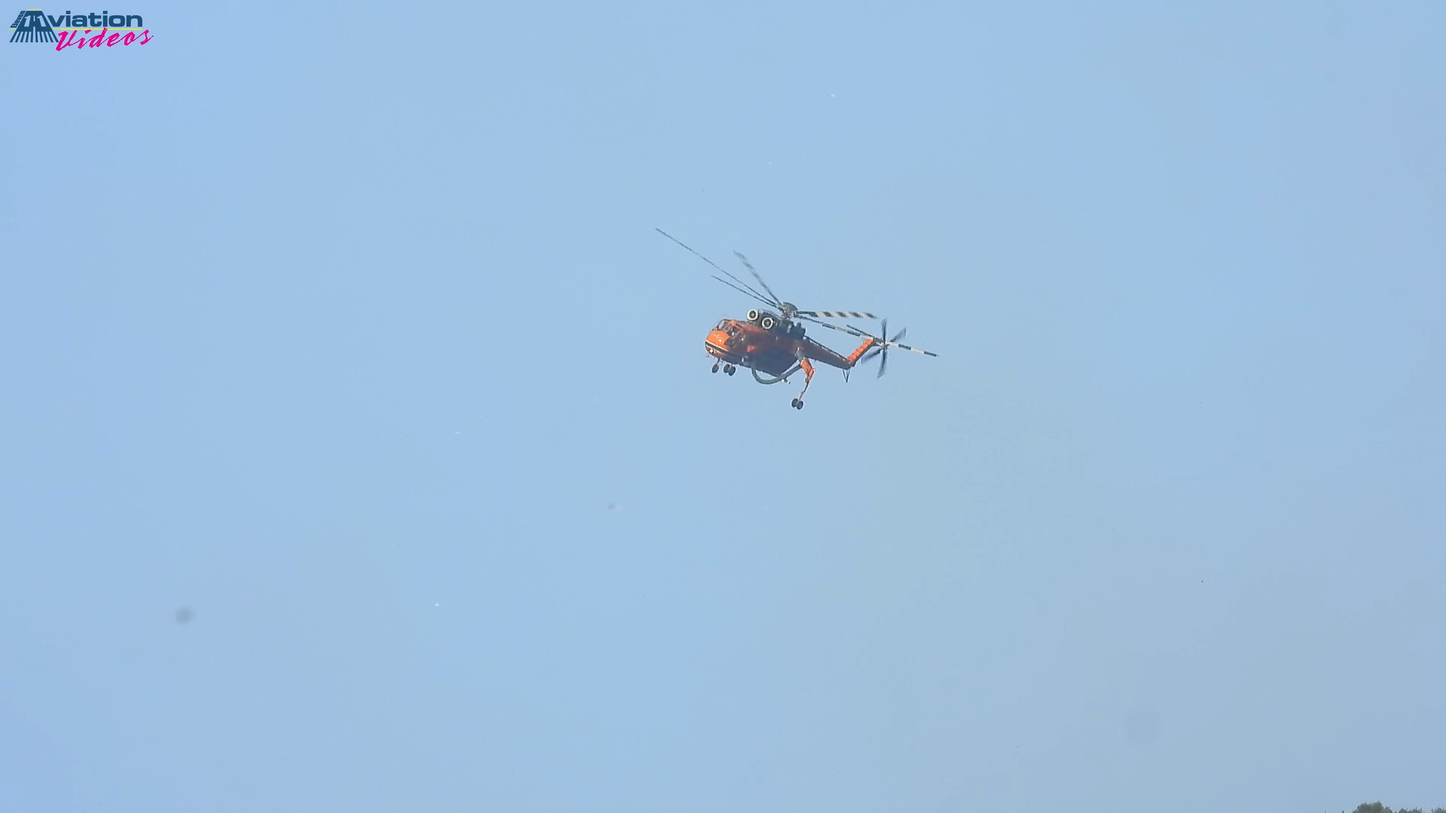helicopter: (665, 247, 930, 415)
